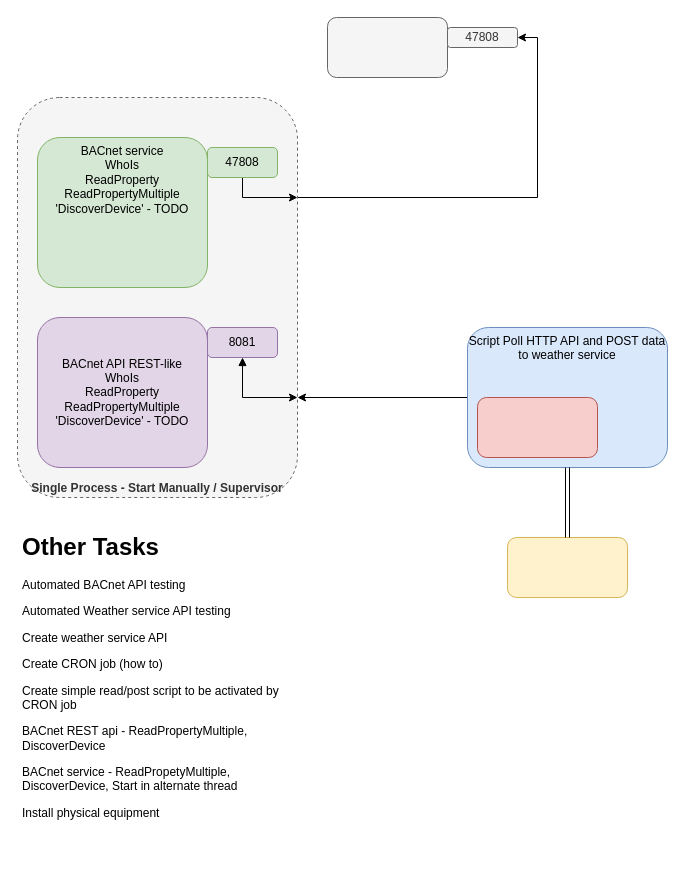
Image size: 685x895. Some labels were removed from this diagram. Here are the shapes that lost their labels. From the top down, the centre of each, then its label:
(x=387, y=47): Weather Station BACnet
(x=537, y=427): Windy / Weather Service API (Read website for bit structure
(x=567, y=567): CRON job - periodic
